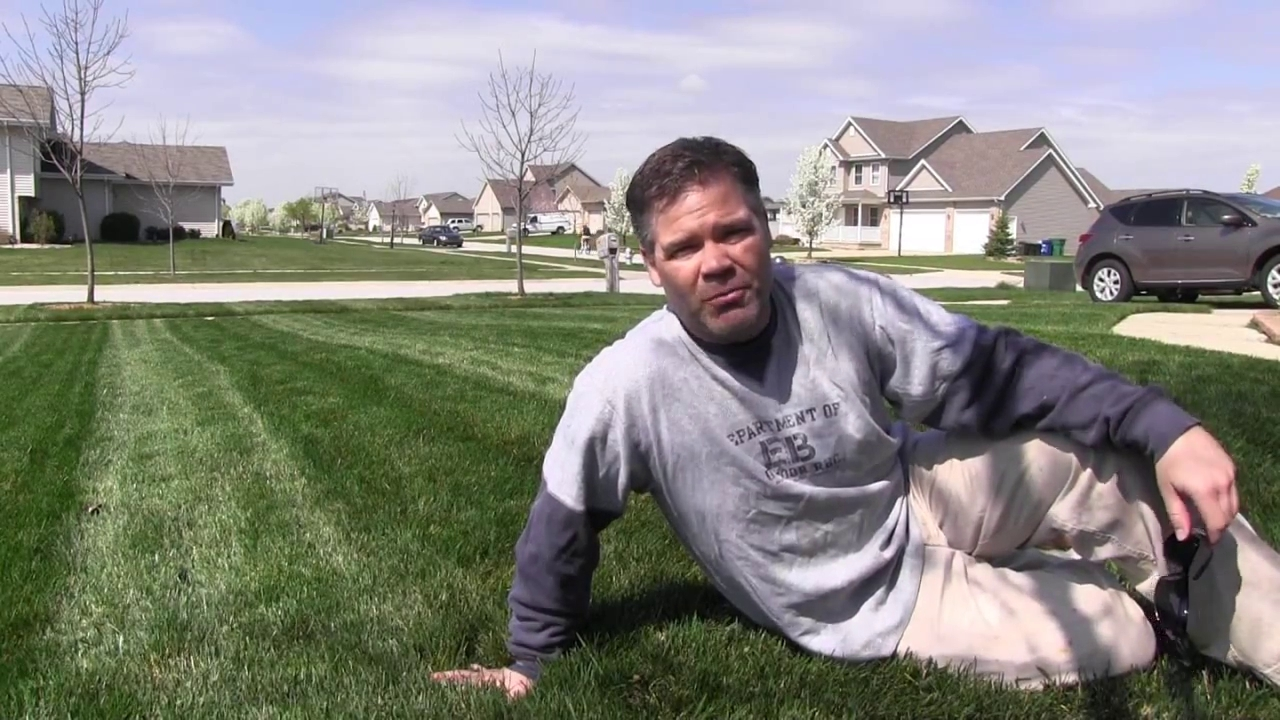person: (428, 136, 1280, 704)
